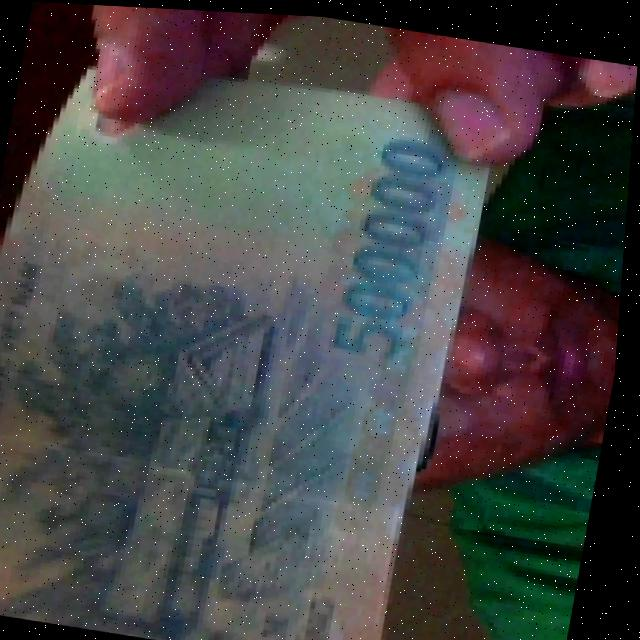500 000 VND: (0, 31, 508, 640)
